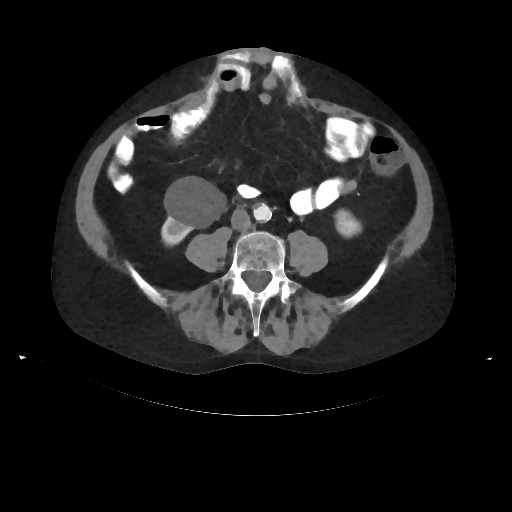Lesion: (163, 177, 229, 231)
